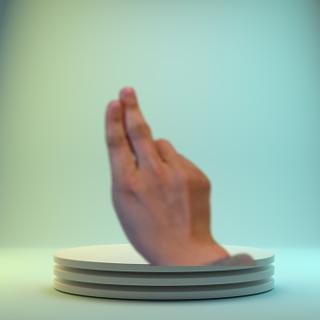DHAVE: (95, 81, 213, 254)
